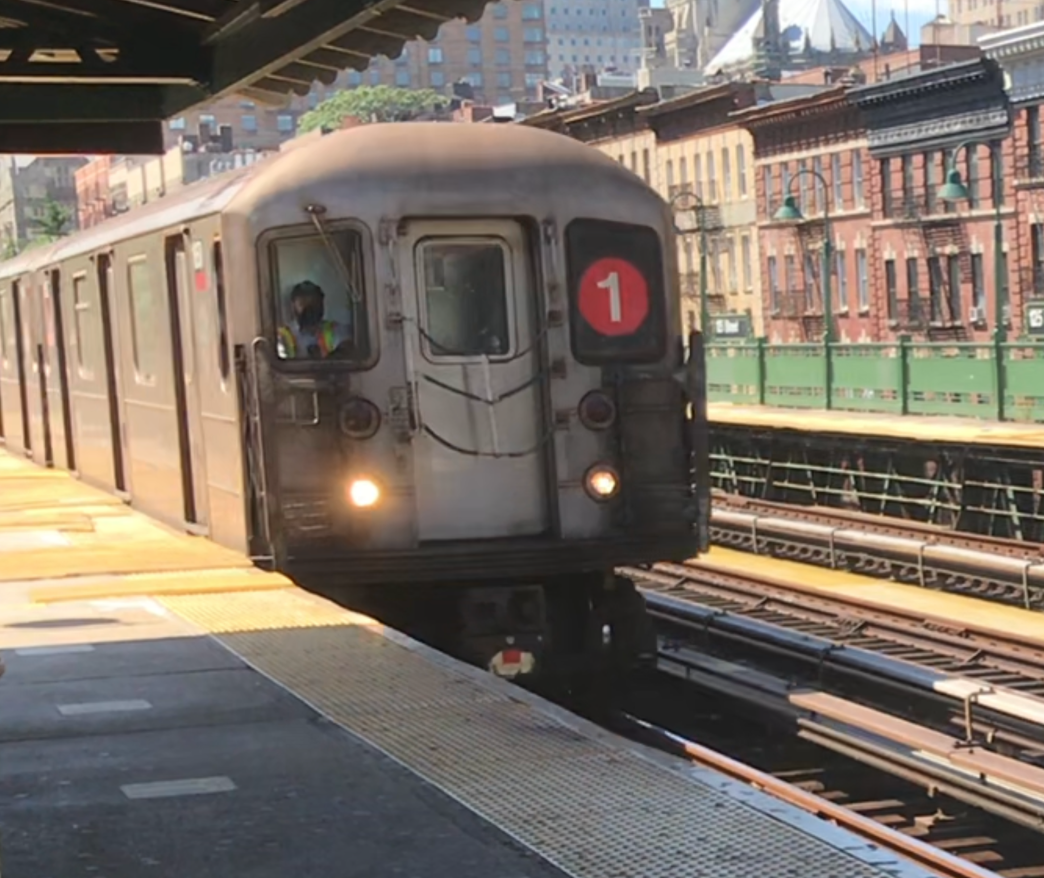train: (210, 122, 702, 569)
